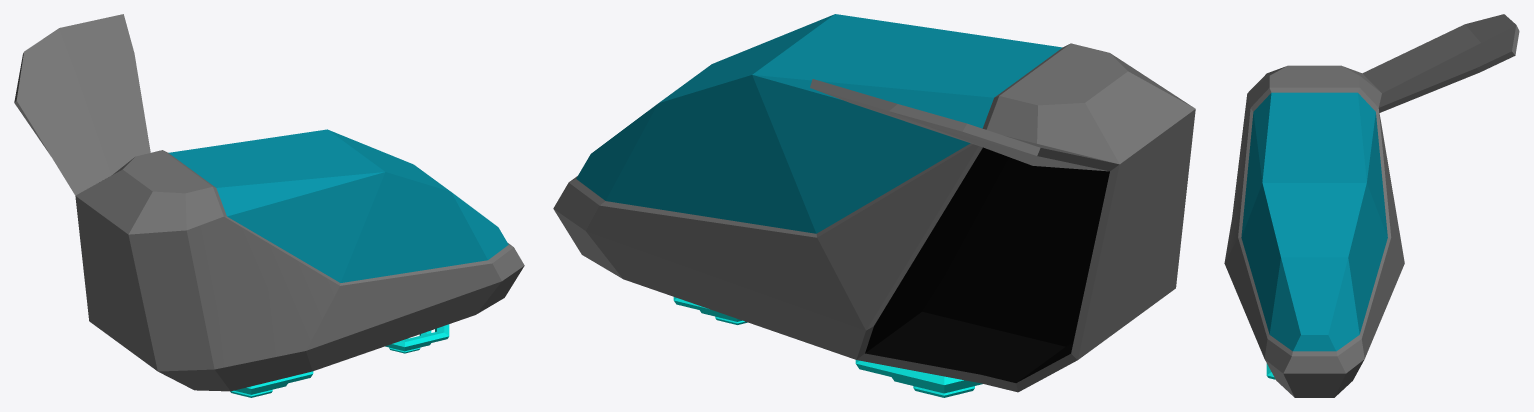
3 renders of one model, left to right at view 1: azimuth 30°, elevation 25°; view 2: azimuth 150°, elevation 25°; view 3: azimuth 270°, elevation 25°, orthographic. The views are drawn at different scales.
Visible parts, largest first — view 1: pTorus11; view 2: pTorus11; view 3: pTorus11.
Boxes of the visible parts, x1,y1,x2,y2 form: pTorus11: [14, 14, 524, 397]; pTorus11: [553, 14, 1195, 397]; pTorus11: [1224, 14, 1519, 397].
Bounding box in the file's own units: 3.32 × 2.33 × 2.32.
